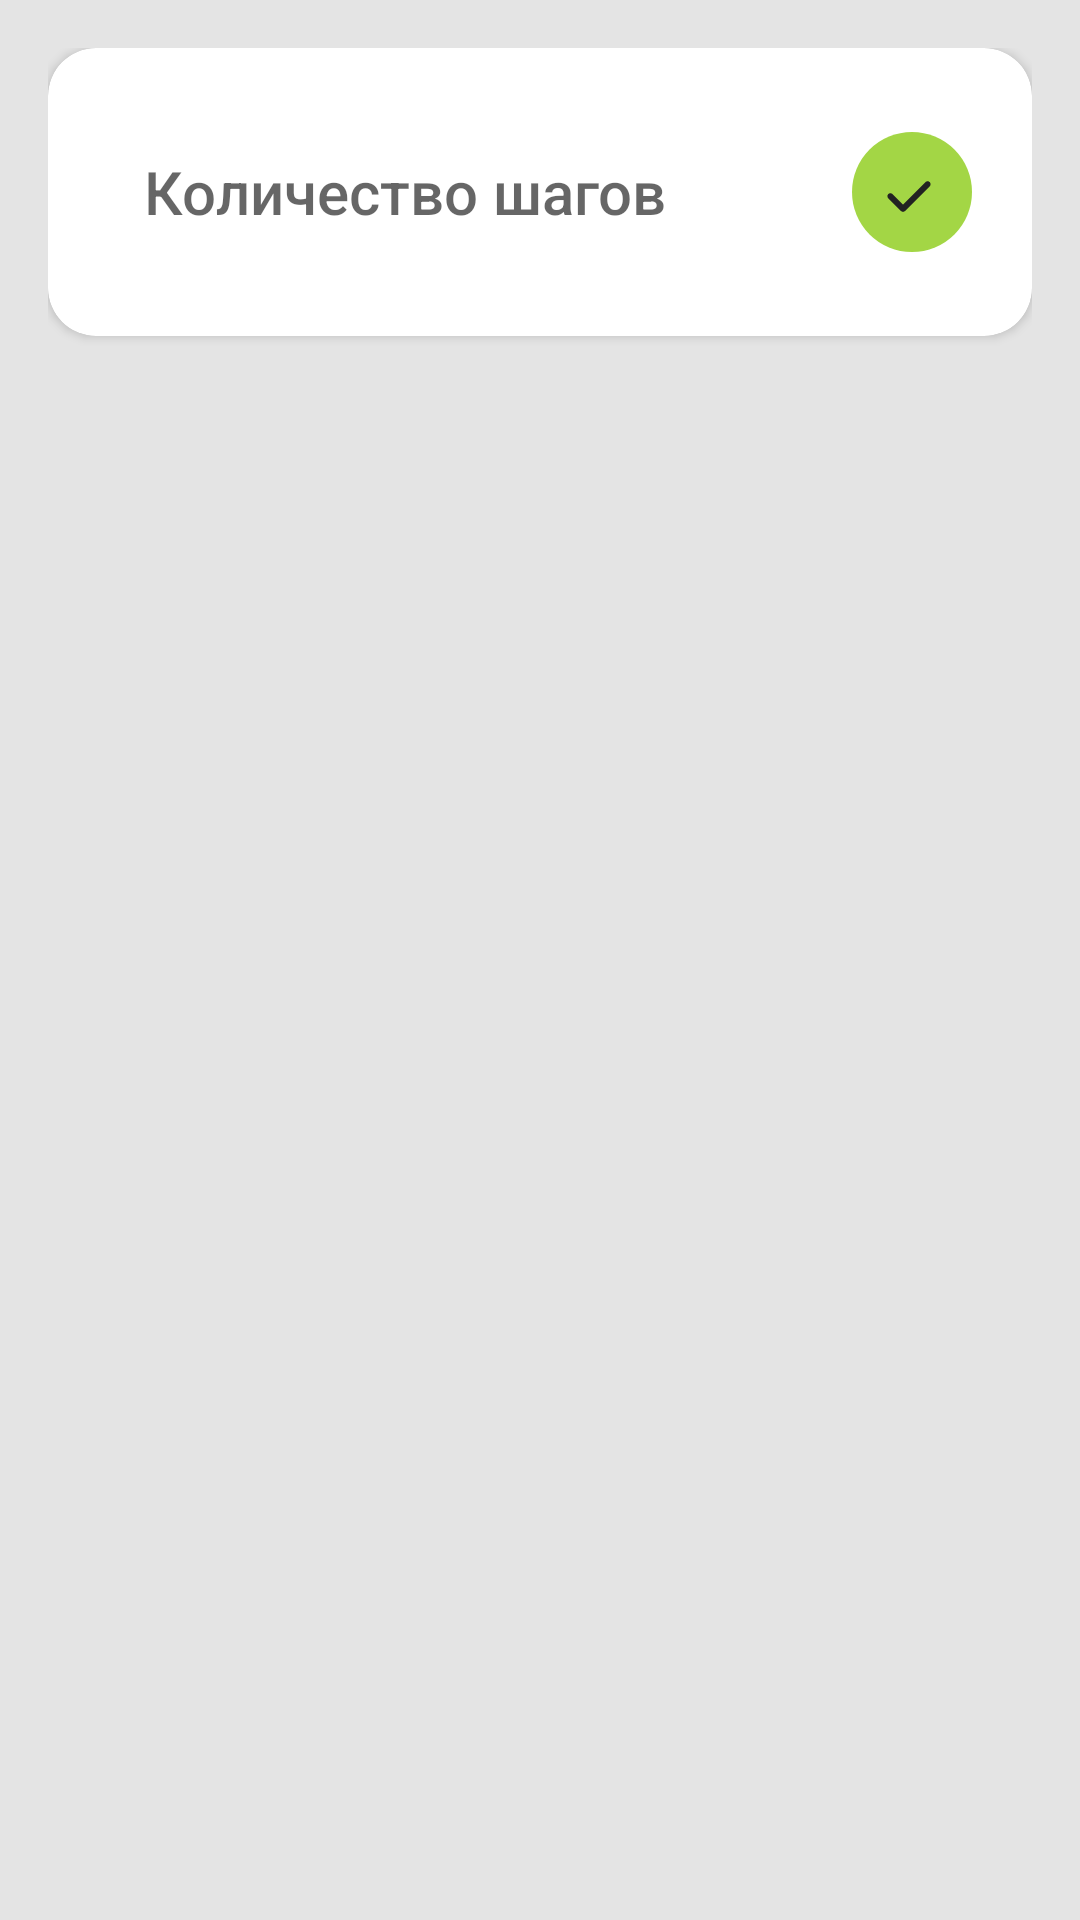

Named icons in this screenshot (1080 × 1920) and their centers, (x=x, y=y):
Сохранить шаги: (x=912, y=192)
